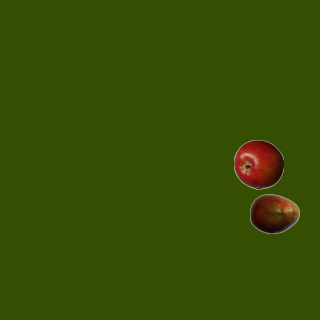Apple Braeburn: (233, 139, 283, 189)
Mango Red: (249, 188, 299, 238)
